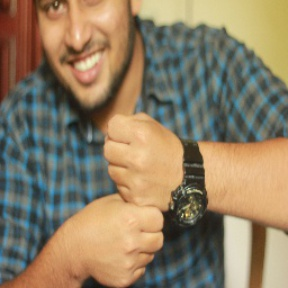G: (83, 108, 187, 288)
